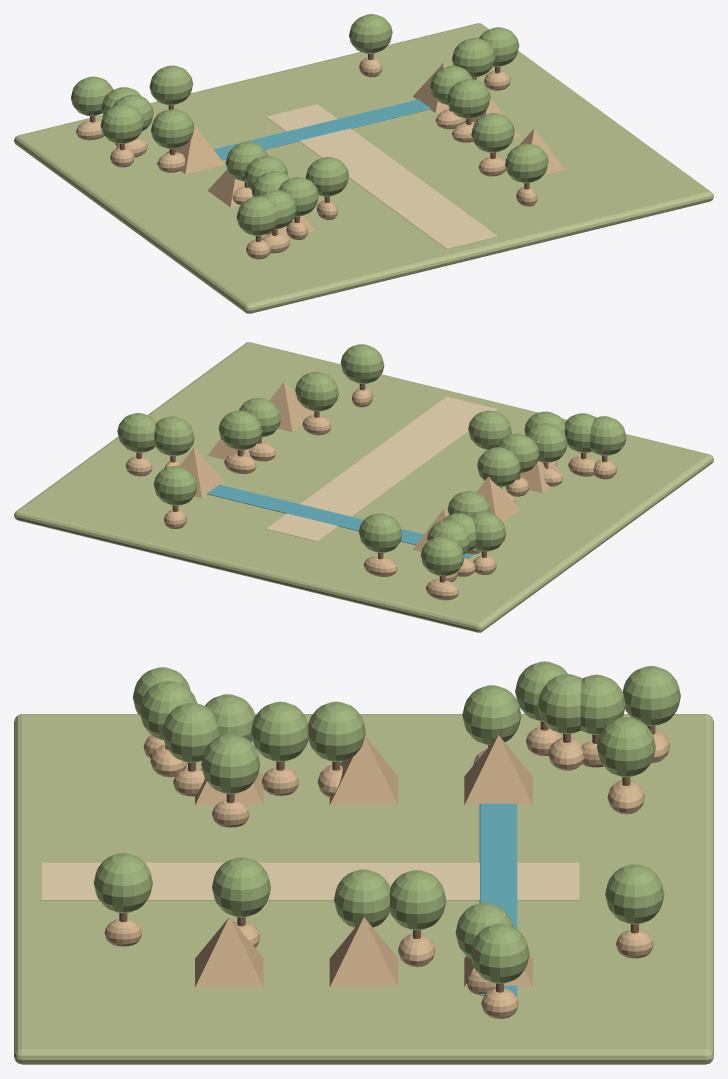
File: story-david.glb
3 views of the same model, one above another, from view 1: azimuth 30°, elevation 25°; view 2: azimuth 150°, elevation 25°; view 3: azimuth 270°, elevation 25° (orthographic). The views are drawn at different scales.
Parts seen in each view (by area): view 1: Game mesh Ground, Game mesh Olive canopy, Game mesh Ochre plaster, Game mesh Sunlit stone, Game mesh Blue water, Game mesh Cedar beams; view 2: Game mesh Ground, Game mesh Olive canopy, Game mesh Ochre plaster, Game mesh Sunlit stone, Game mesh Blue water, Game mesh Cedar beams; view 3: Game mesh Ground, Game mesh Olive canopy, Game mesh Ochre plaster, Game mesh Sunlit stone, Game mesh Blue water, Game mesh Cedar beams.
Boxes of the visible parts, <box> form: Game mesh Ground: <box>14,23,713,313</box>; Game mesh Olive canopy: <box>71,14,548,235</box>; Game mesh Ochre plaster: <box>76,57,565,259</box>; Game mesh Sunlit stone: <box>266,104,497,248</box>; Game mesh Blue water: <box>156,99,430,172</box>; Game mesh Cedar beams: <box>90,53,529,242</box>; Game mesh Ground: <box>14,342,713,632</box>; Game mesh Olive canopy: <box>117,344,626,576</box>; Game mesh Ochre plaster: <box>125,382,617,600</box>; Game mesh Sunlit stone: <box>266,396,497,541</box>; Game mesh Blue water: <box>207,484,473,558</box>; Game mesh Cedar beams: <box>136,384,607,582</box>; Game mesh Ground: <box>14,714,713,1064</box>; Game mesh Olive canopy: <box>93,661,680,983</box>; Game mesh Ochre plaster: <box>104,727,669,1018</box>; Game mesh Sunlit stone: <box>41,862,579,900</box>; Game mesh Blue water: <box>479,803,517,995</box>; Game mesh Cedar beams: <box>119,721,655,992</box>.
Size of the model in its own units: 30 by 4.1 by 26.
